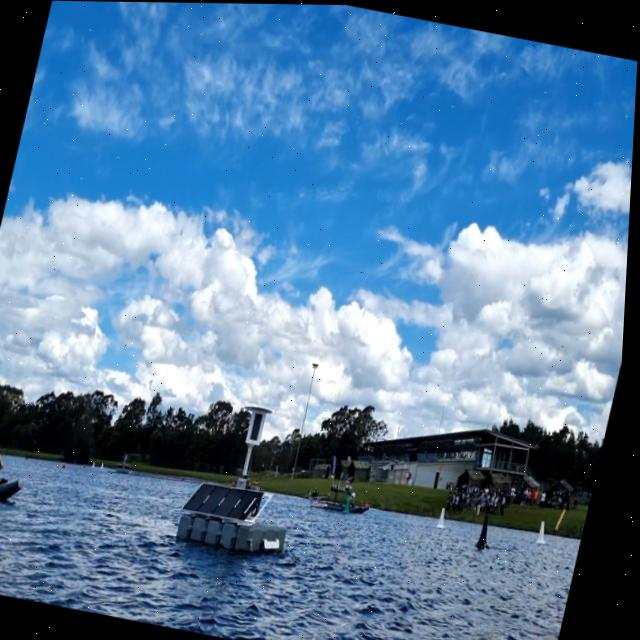led: (251, 409, 269, 443)
